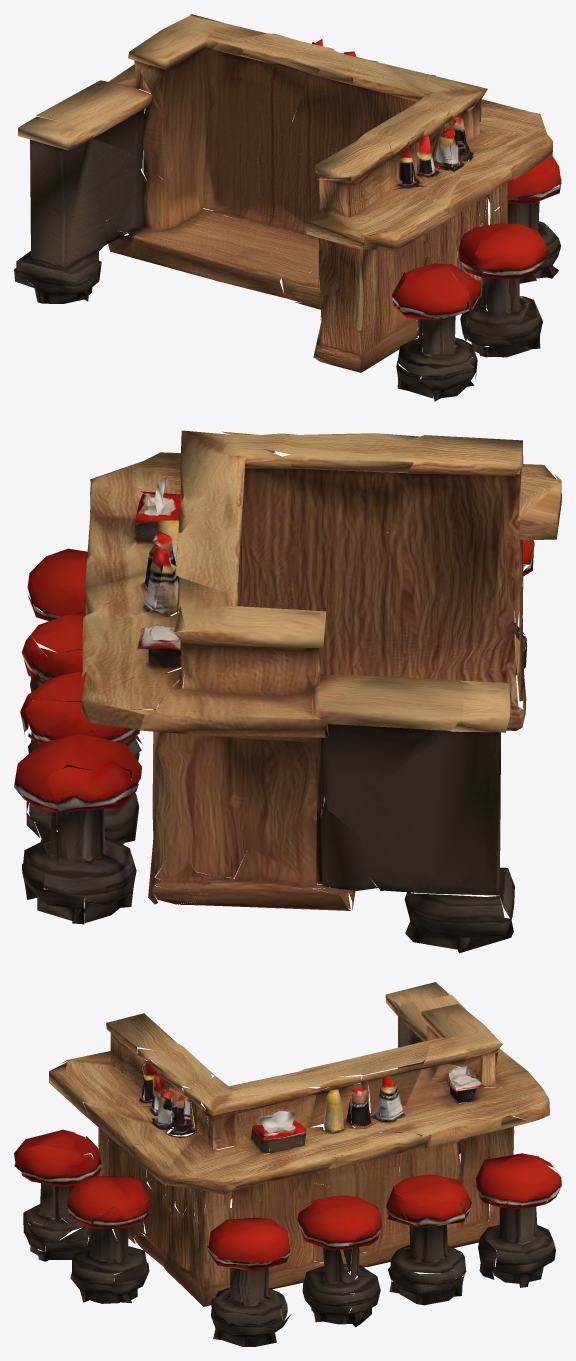
Rendered from ramen_counter.glb.
3 views of the same model, one above another, from view 1: azimuth 30°, elevation 25°; view 2: azimuth 150°, elevation 25°; view 3: azimuth 270°, elevation 25° (orthographic). The views are drawn at different scales.
Visible parts, largest first — view 1: tripo_node_1db50d49-e56a-4f50-91f7-d3173445df9c; view 2: tripo_node_1db50d49-e56a-4f50-91f7-d3173445df9c; view 3: tripo_node_1db50d49-e56a-4f50-91f7-d3173445df9c.
Boxes of the visible parts, left/top/right/bottom form: tripo_node_1db50d49-e56a-4f50-91f7-d3173445df9c: left=14, top=14, right=561, bottom=401; tripo_node_1db50d49-e56a-4f50-91f7-d3173445df9c: left=14, top=430, right=561, bottom=953; tripo_node_1db50d49-e56a-4f50-91f7-d3173445df9c: left=14, top=982, right=561, bottom=1346.
Size of the model in its own units: 2.21 by 1.01 by 2.47.
1 material, 1 textured.
